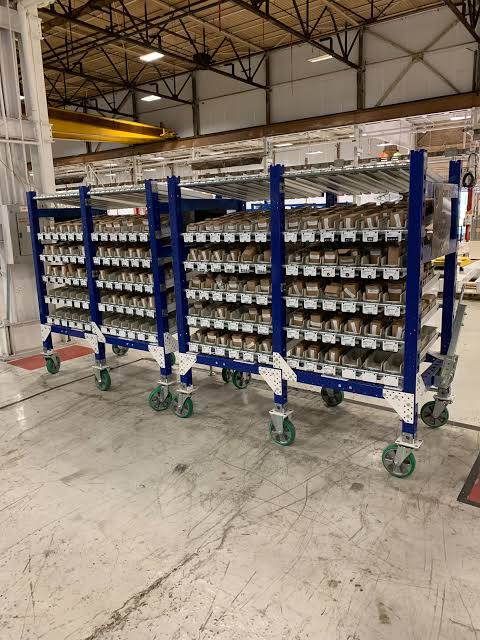Carts: (170, 178, 465, 480), (22, 181, 169, 415)
